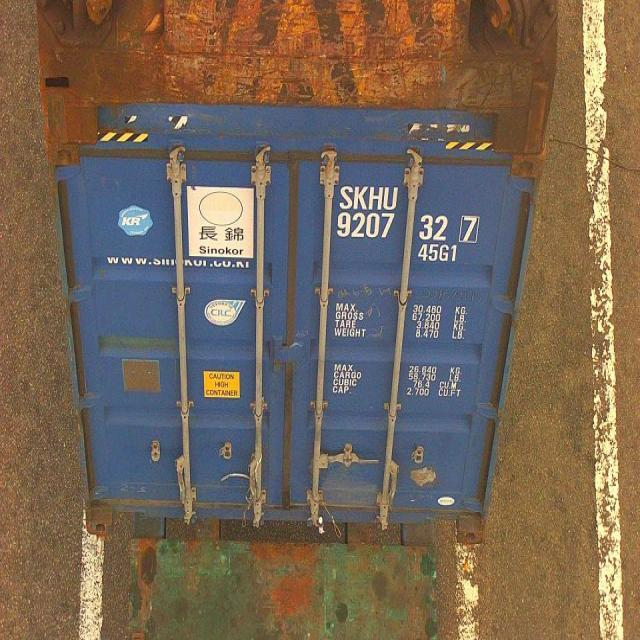ISO: (418, 243, 459, 263)
container_number: (336, 182, 478, 244)
